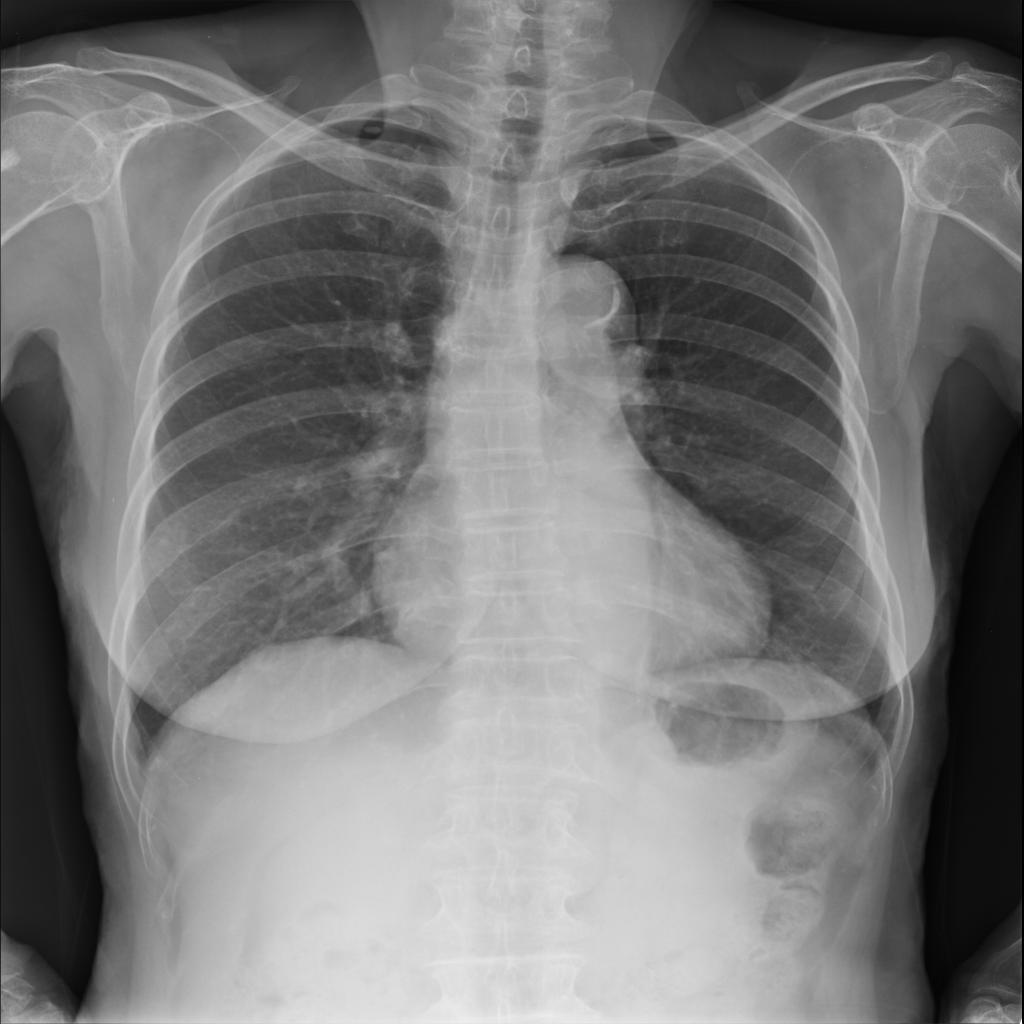Nodule: (364, 125, 382, 135)
